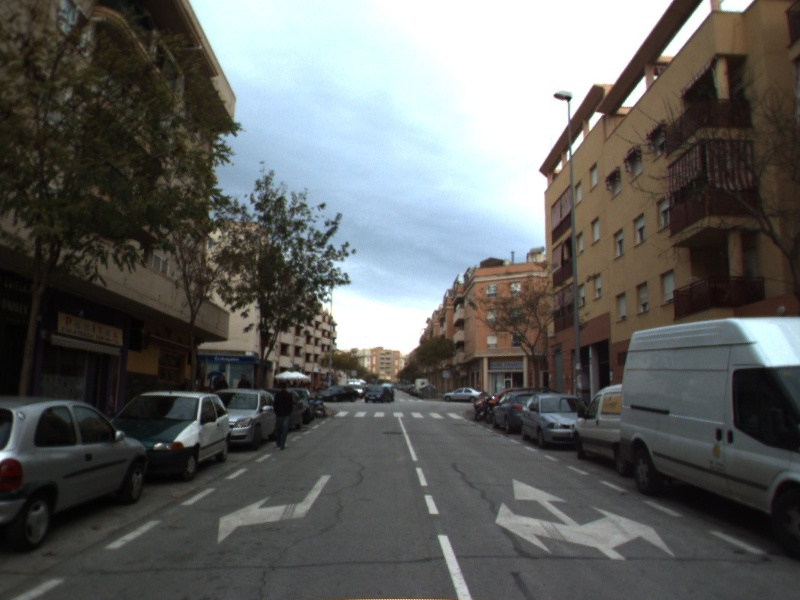STRAIGHT_LEFT_RIGHT: (492, 475, 677, 563)
